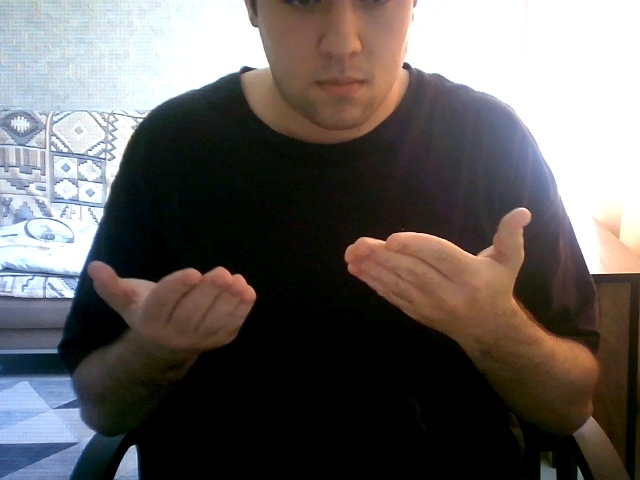hello: (73, 205, 565, 367)
